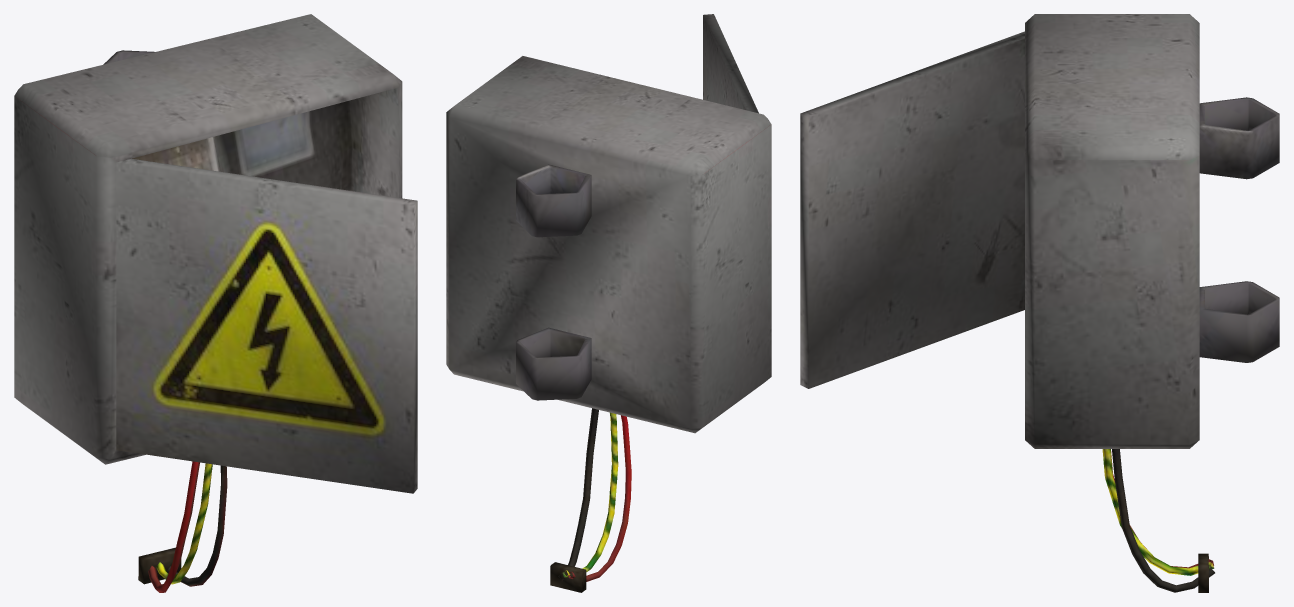
The model's file is electric_box_open.glb.
3 renders of one model, left to right at view 1: azimuth 30°, elevation 25°; view 2: azimuth 150°, elevation 25°; view 3: azimuth 270°, elevation 25°, orthographic. The views are drawn at different scales.
Parts seen in each view (by area): view 1: electric_box_open; view 2: electric_box_open; view 3: electric_box_open.
Boxes of the visible parts, x1,y1,x2,y2 form: electric_box_open: (14, 14, 417, 592); electric_box_open: (446, 14, 771, 592); electric_box_open: (800, 14, 1279, 592).
Size of the model in its own units: 0.2429 by 0.4059 by 0.3487.
Materials: 1 (1 with a texture image).
